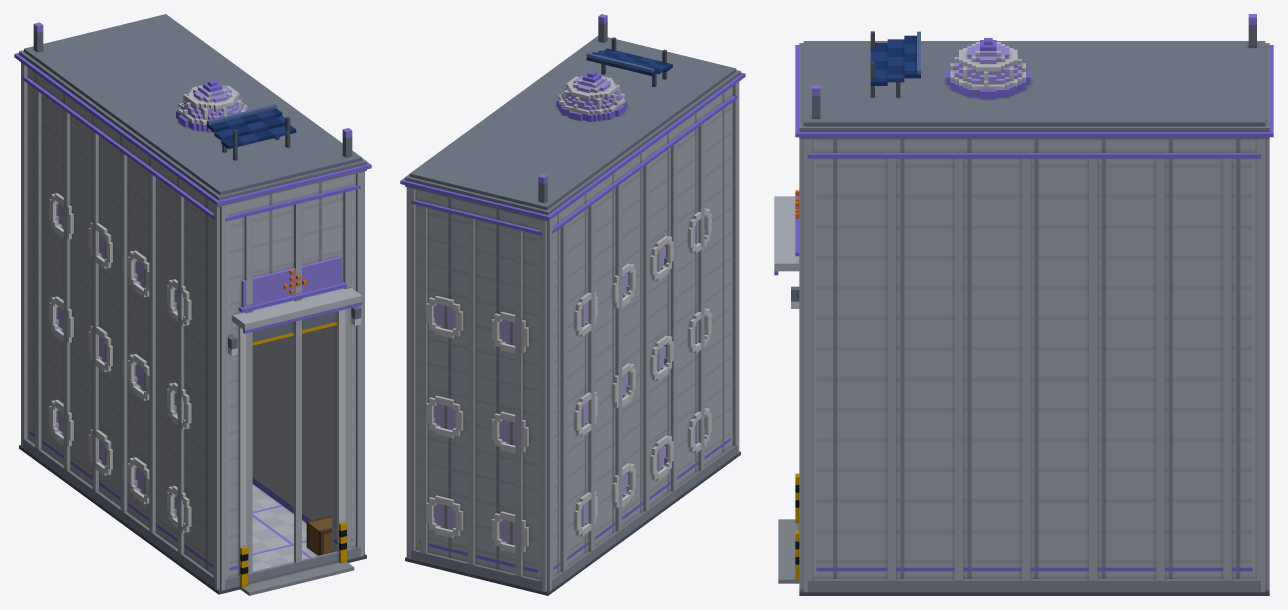
File: workshop_e5_l2.glb
The picture shows the model from 3 angles, left to right: view 1: azimuth 30°, elevation 25°; view 2: azimuth 150°, elevation 25°; view 3: azimuth 270°, elevation 25°; orthographic projection. The views are drawn at different scales.
Visible parts, largest first — view 1: CutNX, CutPZ, CutRoof, Base, CutPX, CutNZ; view 2: CutNX, CutNZ, CutRoof, Base, CutPZ; view 3: CutPX, CutRoof, Base, CutPZ, CutNZ.
Boxes of the visible parts, x1=… form: CutNX: x1=22, y1=69, x2=214, y2=554; CutPZ: x1=213, y1=171, x2=364, y2=561; CutRoof: x1=14, y1=14, x2=371, y2=206; Base: x1=19, y1=418, x2=366, y2=595; CutPX: x1=252, y1=326, x2=331, y2=512; CutNZ: x1=21, y1=62, x2=29, y2=420; CutNX: x1=551, y1=88, x2=737, y2=557; CutNZ: x1=406, y1=187, x2=553, y2=563; CutRoof: x1=400, y1=14, x2=745, y2=221; Base: x1=405, y1=425, x2=740, y2=595; CutPZ: x1=731, y1=82, x2=739, y2=427; CutPX: x1=807, y1=139, x2=1260, y2=557; CutRoof: x1=795, y1=14, x2=1273, y2=139; Base: x1=778, y1=488, x2=1269, y2=595; CutPZ: x1=774, y1=139, x2=816, y2=557; CutNZ: x1=1252, y1=139, x2=1269, y2=557.
Size of the model in its own units: 5 by 13.5 by 11.9.
